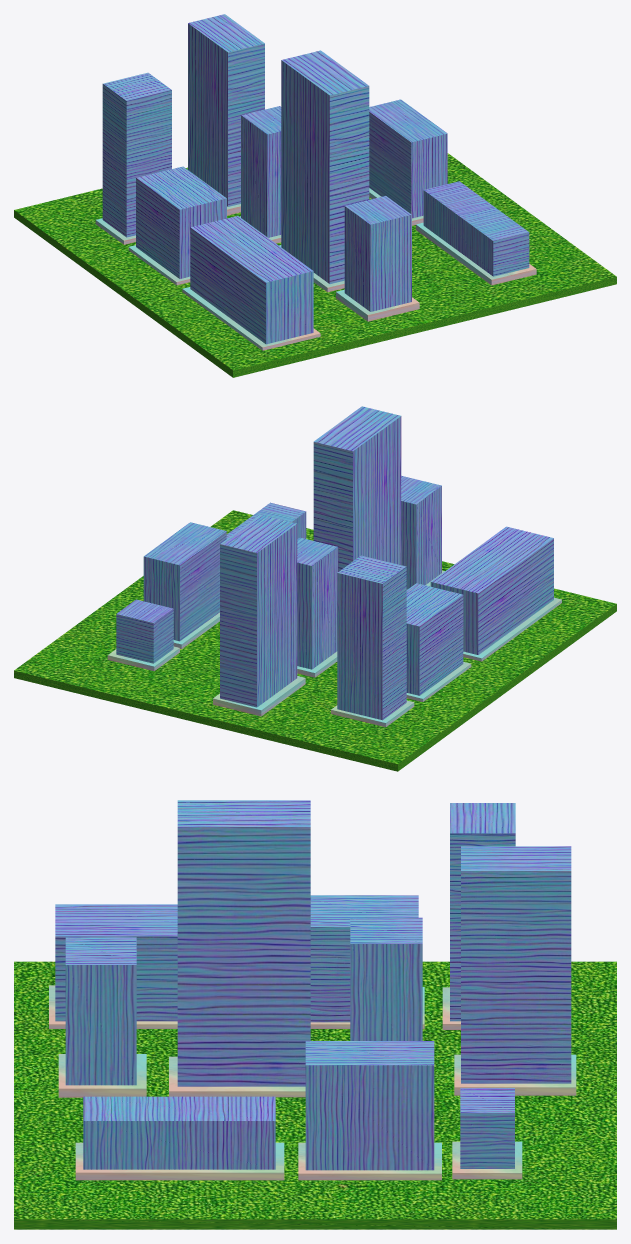
Rendered from map_try3.glb.
3 views of the same model, one above another, from view 1: azimuth 30°, elevation 25°; view 2: azimuth 150°, elevation 25°; view 3: azimuth 270°, elevation 25° (orthographic). The views are drawn at different scales.
Parts seen in each view (by area): view 1: sol, zone5_bat, zone1_bat, zone7_bat, zone3_bat, zone4_bat, zone9_bat, zone2_bat, zone8_bat, zone6_bat, zone8_emp, zone1_emp (+2 smaller); view 2: sol, zone7_bat, zone5_bat, zone3_bat, zone1_bat, zone9_bat, zone2_bat, zone6_bat, zone4_bat, zone10_bat, zone7_emp, zone8_bat (+4 smaller); view 3: sol, zone5_bat, zone7_bat, zone9_bat, zone8_bat, zone4_bat, zone6_bat, zone1_bat, zone2_bat, zone3_bat, zone10_bat, zone8_emp (+6 smaller).
Part boxes in pixels (box(x1,y1,x2,y2)): sol: box(14, 153, 616, 377); zone5_bat: box(281, 50, 369, 283); zone1_bat: box(190, 216, 313, 344); zone7_bat: box(188, 14, 264, 206); zone3_bat: box(102, 72, 171, 237); zone4_bat: box(344, 196, 411, 311); zone9_bat: box(369, 99, 447, 218); zone2_bat: box(136, 166, 226, 278); zone8_bat: box(423, 181, 529, 276); zone6_bat: box(241, 106, 281, 237); zone8_emp: box(416, 222, 536, 285); zone1_emp: box(182, 287, 320, 350); sol: box(14, 510, 616, 771); zone7_bat: box(220, 514, 297, 707); zone5_bat: box(313, 406, 401, 571); zone3_bat: box(337, 555, 406, 720); zone1_bat: box(430, 526, 553, 654); zone9_bat: box(143, 522, 226, 641); zone2_bat: box(406, 583, 463, 695); zone6_bat: box(297, 537, 338, 669); zone4_bat: box(401, 475, 441, 589); zone10_bat: box(116, 599, 173, 663); zone7_emp: box(213, 676, 305, 716); zone8_bat: box(226, 502, 306, 538); sol: box(14, 961, 616, 1229); zone5_bat: box(177, 800, 310, 1086); zone7_bat: box(461, 846, 571, 1083); zone9_bat: box(305, 1041, 434, 1170); zone8_bat: box(83, 1096, 275, 1169); zone4_bat: box(65, 937, 136, 1085); zone6_bat: box(350, 917, 422, 1040); zone1_bat: box(55, 904, 177, 1021); zone2_bat: box(310, 895, 418, 1022); zone3_bat: box(450, 803, 515, 1021); zone10_bat: box(460, 1088, 514, 1168); zone8_emp: box(75, 1142, 284, 1180).
Size of the model in its own units: 16.1 by 8.05 by 15.92.
21 materials, 21 textured.
